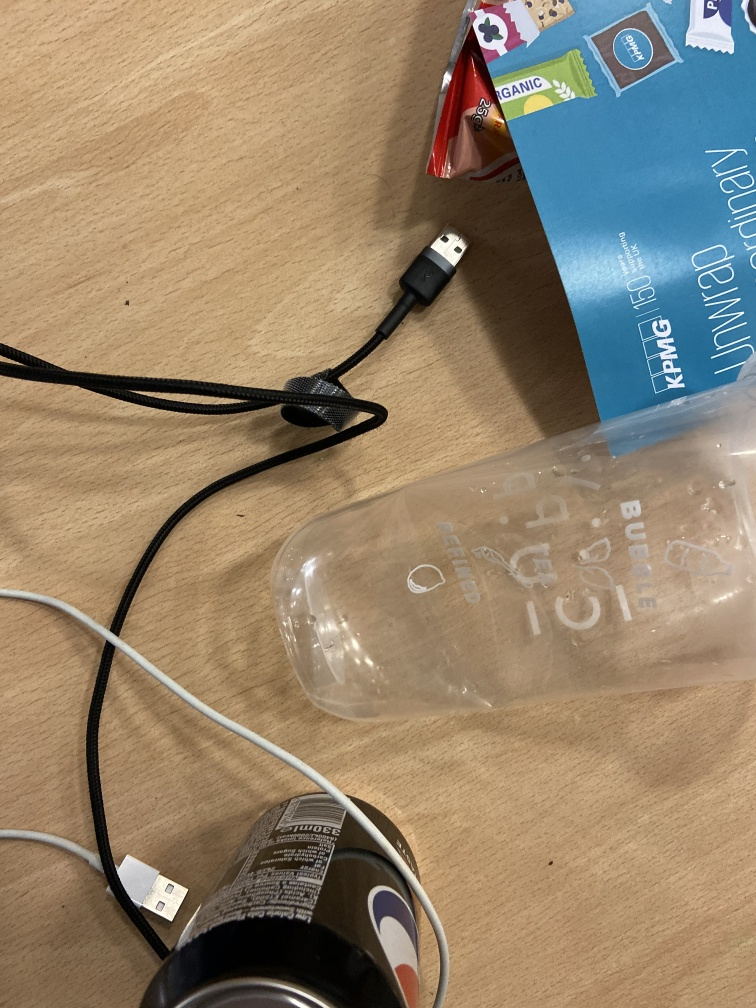can_black: (135, 788, 433, 1008)
